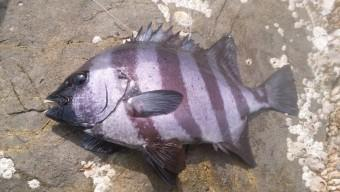fish: (45, 23, 297, 182)
